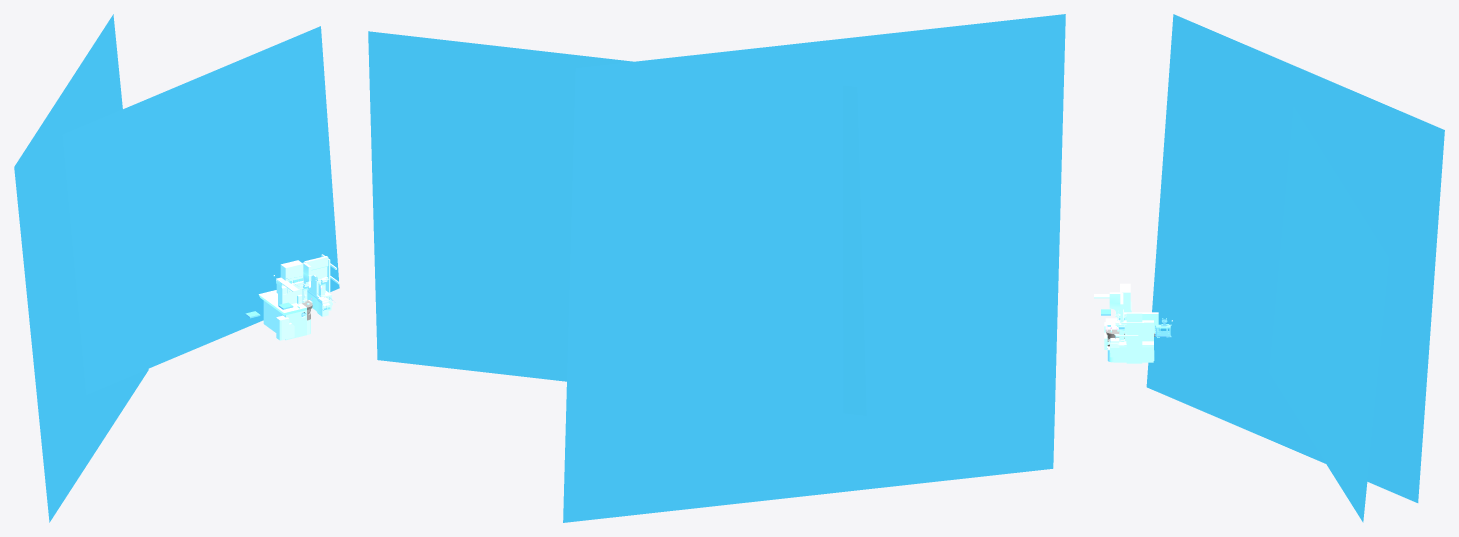
The picture shows the model from 3 angles, left to right: view 1: azimuth 30°, elevation 25°; view 2: azimuth 150°, elevation 25°; view 3: azimuth 270°, elevation 25°; orthographic projection. The views are drawn at different scales.
Visible parts, largest first — view 1: Plane.001, Plane, housebigbottom, housebig, arc.001; view 2: Plane, Plane.001; view 3: Plane, Plane.001, housebigbottom, Cube.001.
Boxes of the visible parts, x1,y1,x2,y2 form: Plane.001: (62, 26, 339, 394); Plane: (14, 14, 148, 522); housebigbottom: (258, 275, 331, 340); housebig: (276, 260, 303, 304); arc.001: (303, 256, 328, 284); Plane: (563, 14, 1065, 522); Plane.001: (368, 31, 866, 415); Plane: (1146, 14, 1444, 502); Plane.001: (1269, 105, 1389, 522); housebigbottom: (1104, 312, 1158, 362); Cube.001: (1126, 313, 1142, 363).
Size of the model in its own units: 108 by 87.22 by 76.59.
